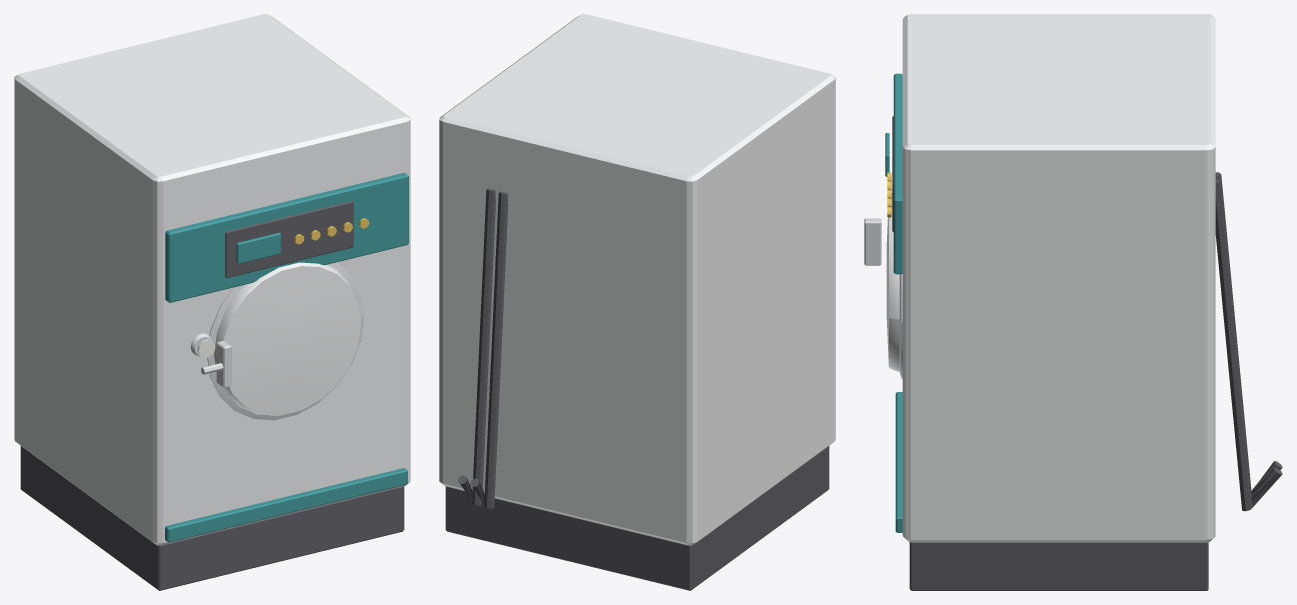
File: dry-cleaners-and-alterations-shop-washer-extractor-c5cc774a__34952.glb
3 renders of one model, left to right at view 1: azimuth 30°, elevation 25°; view 2: azimuth 150°, elevation 25°; view 3: azimuth 270°, elevation 25°, orthographic. The views are drawn at different scales.
Visible parts, largest first — view 1: washer-extractor, machine-door/panel, machine-door/metal; view 2: washer-extractor; view 3: washer-extractor, machine-door/panel, machine-door/metal.
Boxes of the visible parts, x1,y1,x2,y2 form: washer-extractor: (14, 14, 410, 590); machine-door/panel: (214, 262, 361, 415); machine-door/metal: (201, 340, 231, 387); washer-extractor: (439, 14, 835, 590); washer-extractor: (885, 14, 1282, 590); machine-door/panel: (886, 193, 899, 371); machine-door/metal: (864, 218, 881, 265).
Size of the model in its own units: 0.92 by 1.42 by 1.2.
